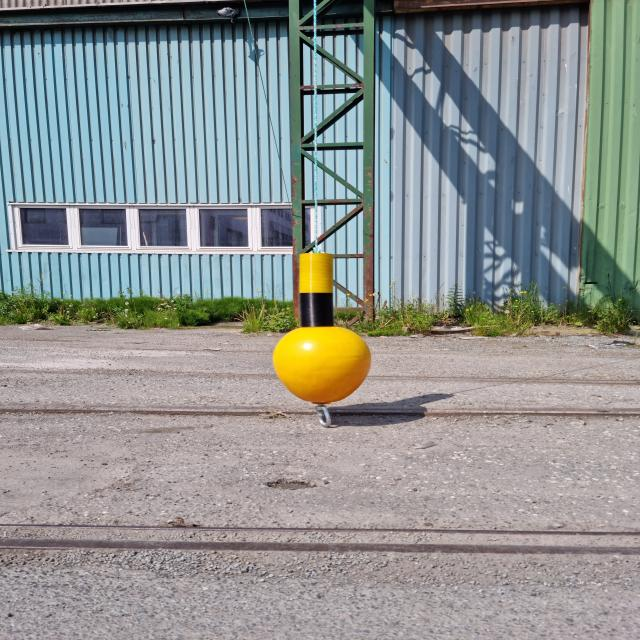west: (272, 253, 370, 403)
